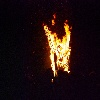fire: (41, 13, 73, 75)
